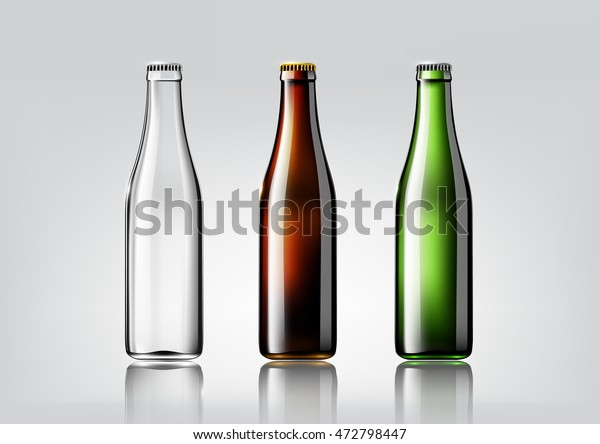glass_bottleww: (386, 54, 493, 366), (116, 56, 209, 377), (252, 59, 346, 366)
